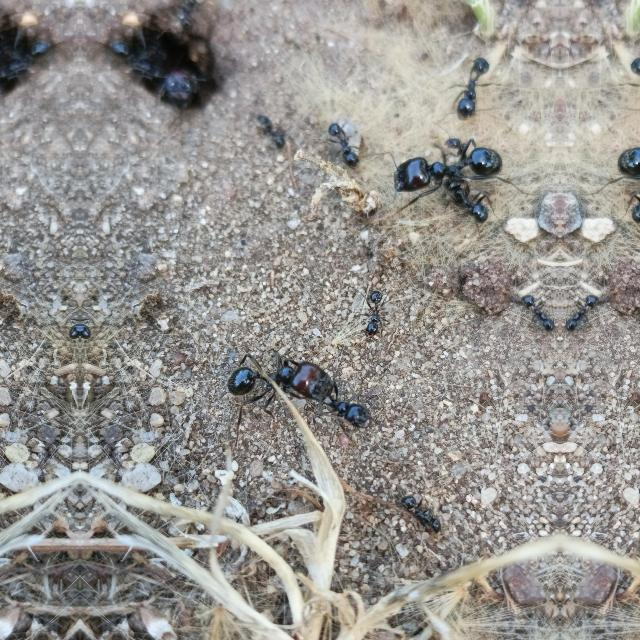Messor: (382, 126, 536, 210), (218, 338, 338, 410), (583, 126, 640, 210), (445, 54, 501, 124), (440, 180, 508, 233), (508, 286, 560, 350), (398, 481, 462, 533), (560, 286, 612, 350), (351, 273, 395, 341), (324, 382, 378, 434), (246, 102, 286, 160), (336, 115, 374, 175), (166, 61, 206, 111), (128, 37, 168, 87), (444, 128, 490, 168), (0, 37, 32, 87), (612, 180, 640, 233), (619, 54, 640, 124), (80, 315, 110, 349), (50, 315, 80, 349), (174, 0, 204, 28), (630, 128, 640, 168)
